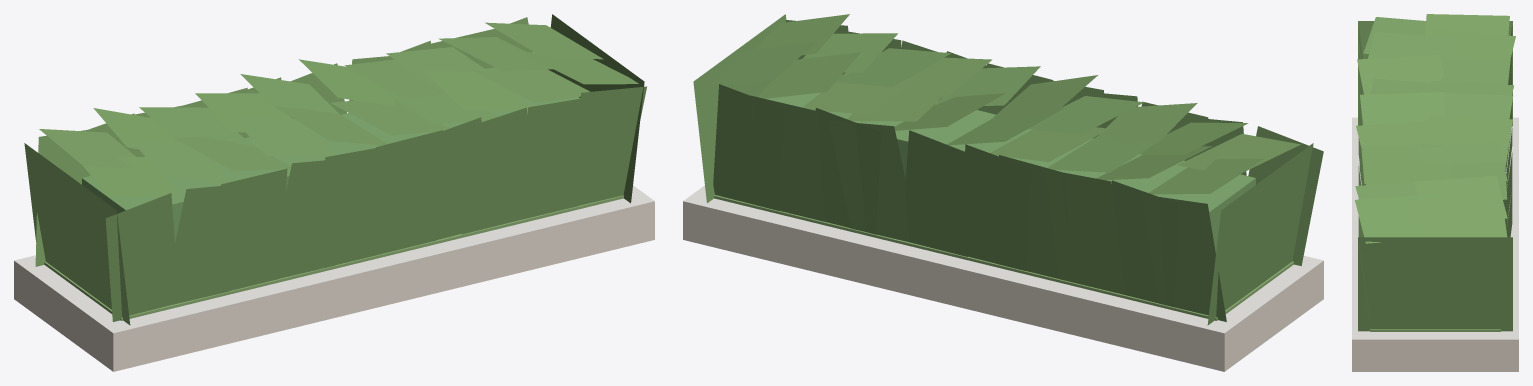
File: Cover_Hedge_Bed.fbx
3 renders of one model, left to right at view 1: azimuth 30°, elevation 25°; view 2: azimuth 150°, elevation 25°; view 3: azimuth 270°, elevation 25°, orthographic. The views are drawn at different scales.
Parts seen in each view (by area): view 1: Cover_Hedge_Bed; view 2: Cover_Hedge_Bed; view 3: Cover_Hedge_Bed.
Boxes of the visible parts, box(x1,y1,x2,y2) form: Cover_Hedge_Bed: box(14, 14, 654, 371); Cover_Hedge_Bed: box(683, 14, 1323, 371); Cover_Hedge_Bed: box(1352, 14, 1518, 371).
Bounding box in the file's own units: 4.43 × 1.35 × 1.4.
